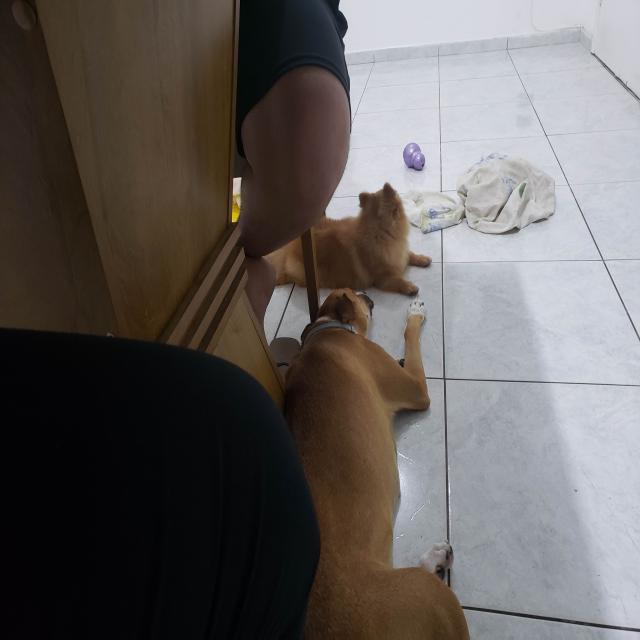laying down: (256, 287, 469, 640), (267, 182, 436, 301)
